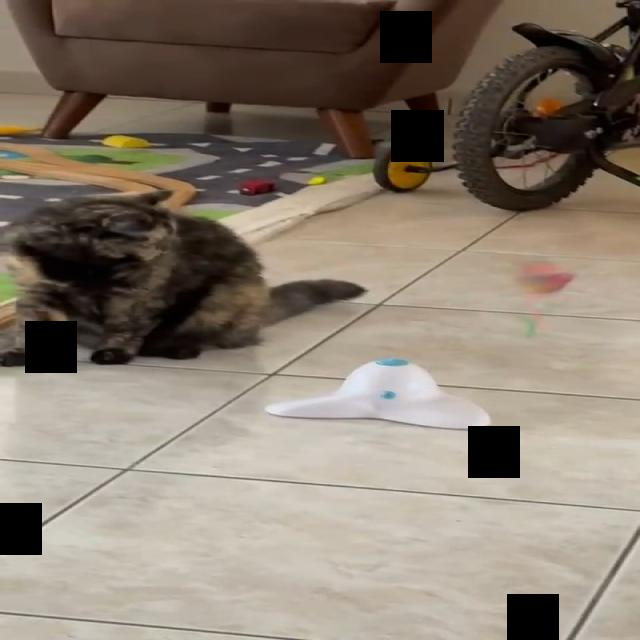authorized: (0, 188, 368, 366)
